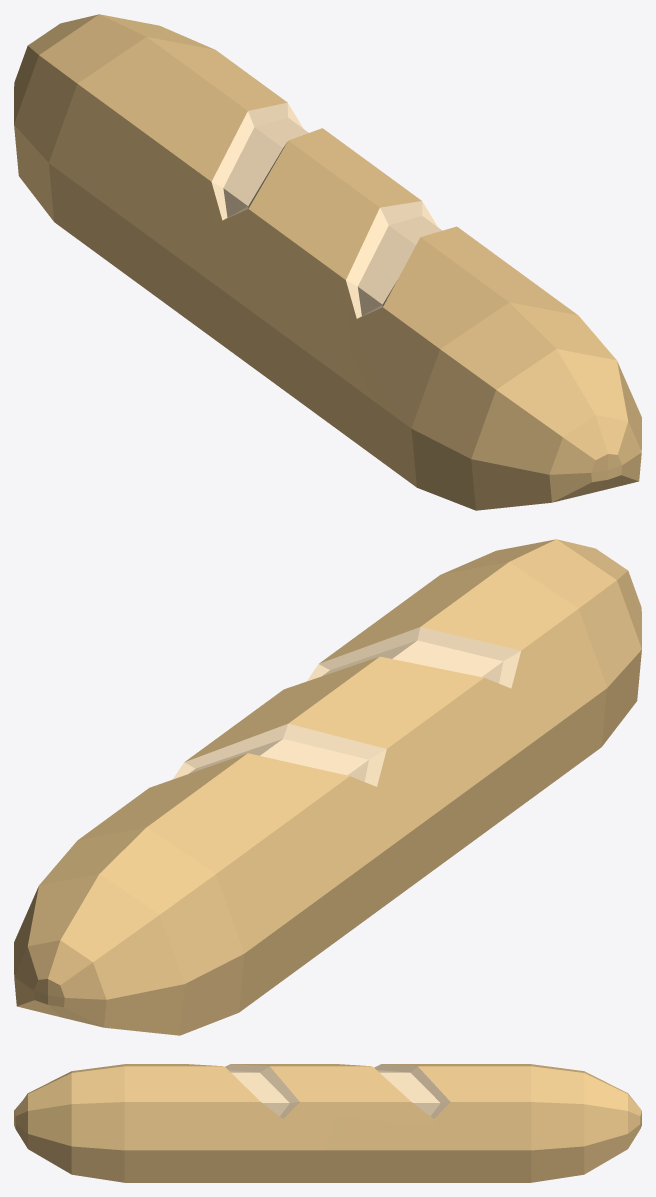
File: Bread.fbx
3 views of the same model, one above another, from view 1: azimuth 30°, elevation 25°; view 2: azimuth 150°, elevation 25°; view 3: azimuth 270°, elevation 25° (orthographic). The views are drawn at different scales.
Parts seen in each view (by area): view 1: Baguette_01; view 2: Baguette_01; view 3: Baguette_01.
Boxes of the visible parts, x1=… form: Baguette_01: x1=14, y1=14, x2=641, y2=510; Baguette_01: x1=14, y1=539, x2=641, y2=1035; Baguette_01: x1=14, y1=1064, x2=641, y2=1182.
Bounding box in the file's own units: 200 × 159 × 991.
